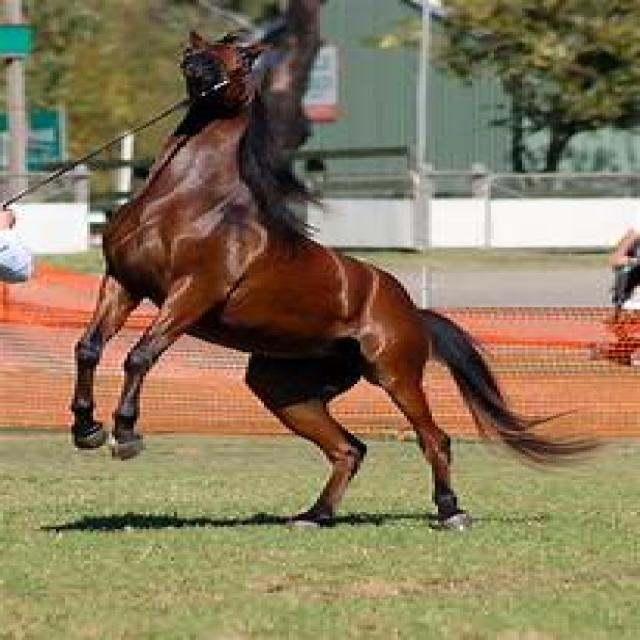horse: (73, 0, 593, 526)
